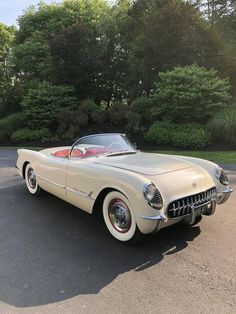car: (7, 120, 232, 254)
